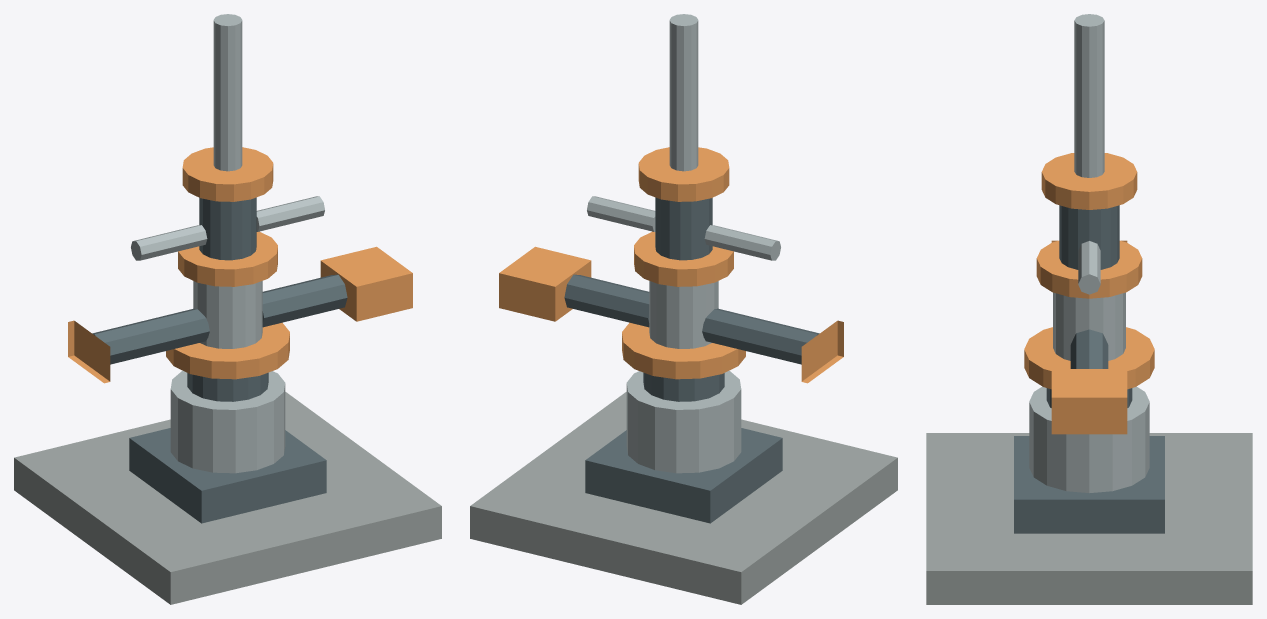
The model's file is offset_wellhead.glb.
The picture shows the model from 3 angles, left to right: view 1: azimuth 30°, elevation 25°; view 2: azimuth 150°, elevation 25°; view 3: azimuth 270°, elevation 25°; orthographic projection. The views are drawn at different scales.
Visible parts, largest first — view 1: Representational offset wellhead marker · material 3, Representational offset wellhead marker · material 1, Representational offset wellhead marker · material 0, Representational offset wellhead marker · material 2; view 2: Representational offset wellhead marker · material 3, Representational offset wellhead marker · material 1, Representational offset wellhead marker · material 0, Representational offset wellhead marker · material 2; view 3: Representational offset wellhead marker · material 3, Representational offset wellhead marker · material 0, Representational offset wellhead marker · material 2, Representational offset wellhead marker · material 1.
Part boxes in pixels (bbox=[...]): Representational offset wellhead marker · material 3: bbox=[14, 392, 441, 604]; Representational offset wellhead marker · material 1: bbox=[92, 197, 347, 523]; Representational offset wellhead marker · material 0: bbox=[131, 14, 324, 473]; Representational offset wellhead marker · material 2: bbox=[68, 147, 412, 383]; Representational offset wellhead marker · material 3: bbox=[470, 392, 897, 604]; Representational offset wellhead marker · material 1: bbox=[564, 197, 819, 523]; Representational offset wellhead marker · material 0: bbox=[587, 14, 780, 473]; Representational offset wellhead marker · material 2: bbox=[499, 147, 843, 383]; Representational offset wellhead marker · material 3: bbox=[926, 433, 1252, 604]; Representational offset wellhead marker · material 0: bbox=[1029, 14, 1149, 492]; Representational offset wellhead marker · material 2: bbox=[1024, 153, 1154, 434]; Representational offset wellhead marker · material 1: bbox=[1014, 205, 1164, 533].
Size of the model in its own units: 2.96 by 4.53 by 2.6.
